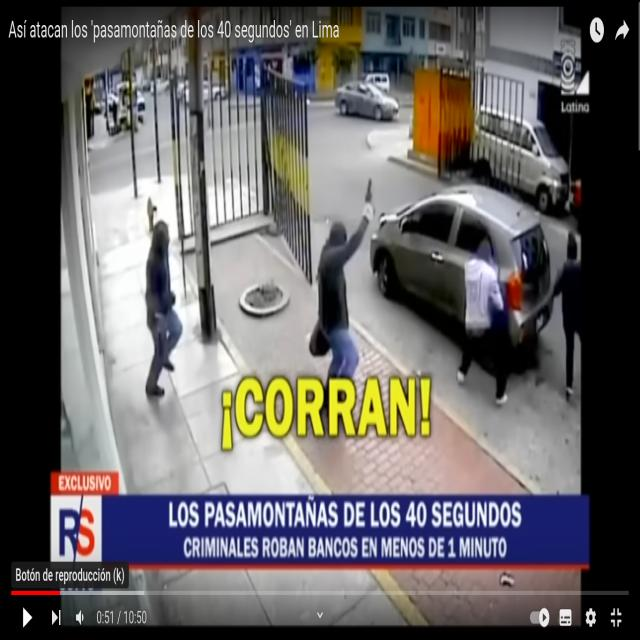FPistol: (362, 167, 377, 211)
